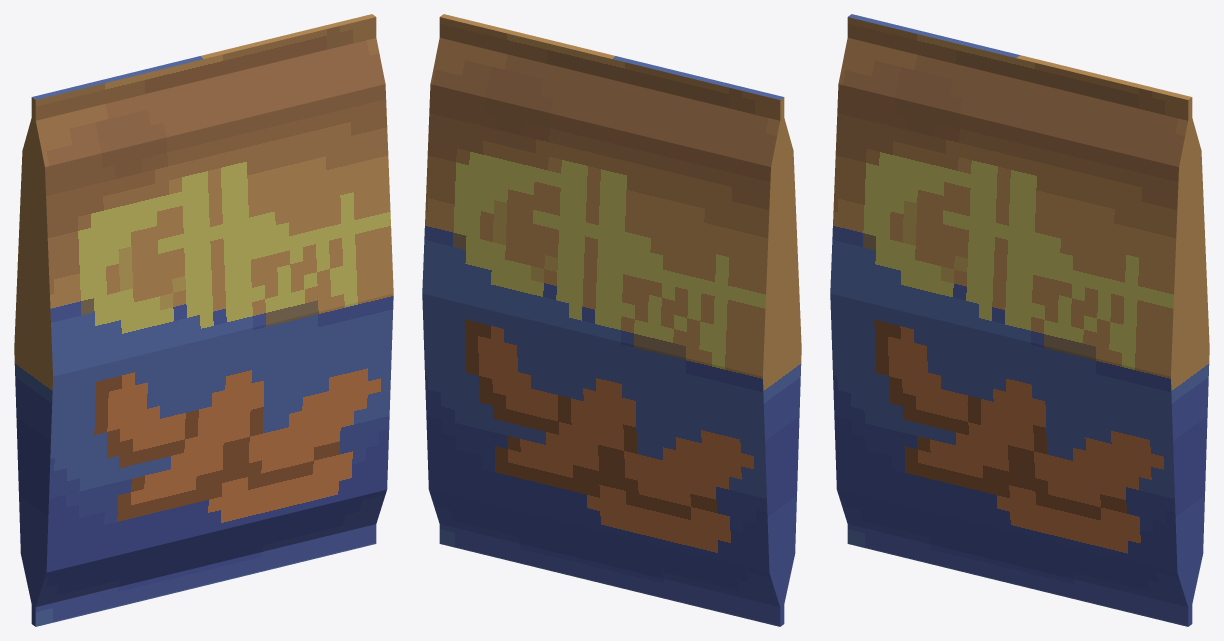
The model's file is Chip3.fbx.
The picture shows the model from 3 angles, left to right: view 1: azimuth 30°, elevation 25°; view 2: azimuth 150°, elevation 25°; view 3: azimuth 330°, elevation 25°; orthographic projection.
Visible parts, largest first — view 1: Cube.004; view 2: Cube.004; view 3: Cube.004.
Part boxes in pixels (left/top/right/bottom): Cube.004: left=14, top=14, right=393, bottom=626; Cube.004: left=422, top=14, right=801, bottom=626; Cube.004: left=830, top=14, right=1209, bottom=626.
Bounding box in the file's own units: 157 × 232 × 30.98.
Materials: 1 (1 with a texture image).
